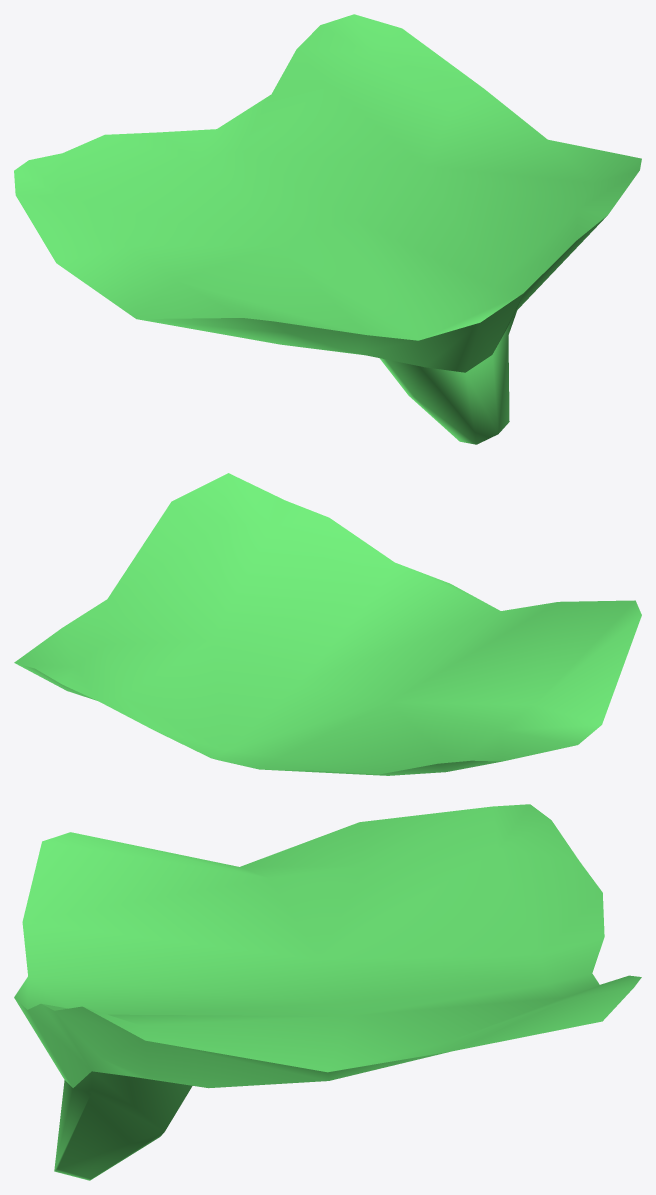
The model's file is M_ShelfCoral.fbx.
The picture shows the model from 3 angles, top to bottom: view 1: azimuth 30°, elevation 25°; view 2: azimuth 150°, elevation 25°; view 3: azimuth 270°, elevation 25°; orthographic projection. The views are drawn at different scales.
Parts seen in each view (by area): view 1: shelfcoral_stemfan; view 2: shelfcoral_stemfan; view 3: shelfcoral_stemfan.
Part boxes in pixels (x1,y1,x2,y2): shelfcoral_stemfan: [14, 14, 641, 444]; shelfcoral_stemfan: [14, 473, 641, 775]; shelfcoral_stemfan: [14, 804, 641, 1180].
Bounding box in the file's own units: 17.13 × 7.59 × 16.31.
